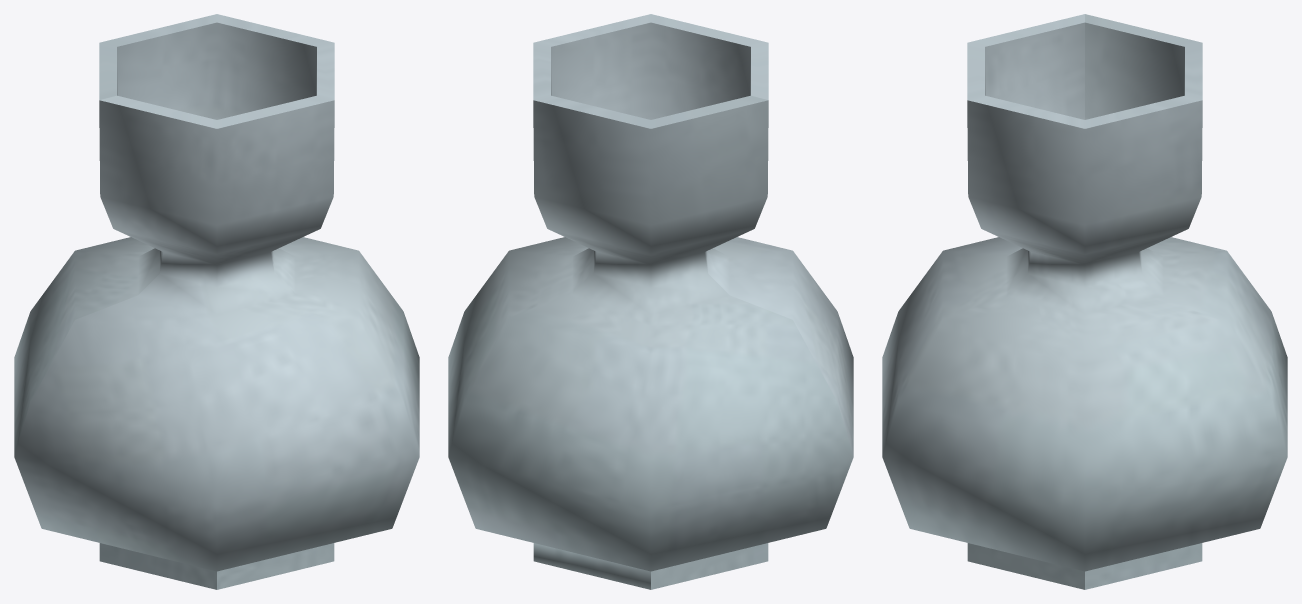
File: M_Vase.FBX
3 renders of one model, left to right at view 1: azimuth 30°, elevation 25°; view 2: azimuth 150°, elevation 25°; view 3: azimuth 270°, elevation 25°, orthographic.
Visible parts, largest first — view 1: vase; view 2: vase; view 3: vase.
Part boxes in pixels (<box>): vase: <box>14,14,419,589</box>; vase: <box>448,14,853,589</box>; vase: <box>882,14,1287,589</box>.
Size of the model in its own units: 22.69 by 24.67 by 19.65.
1 material, 1 textured.
